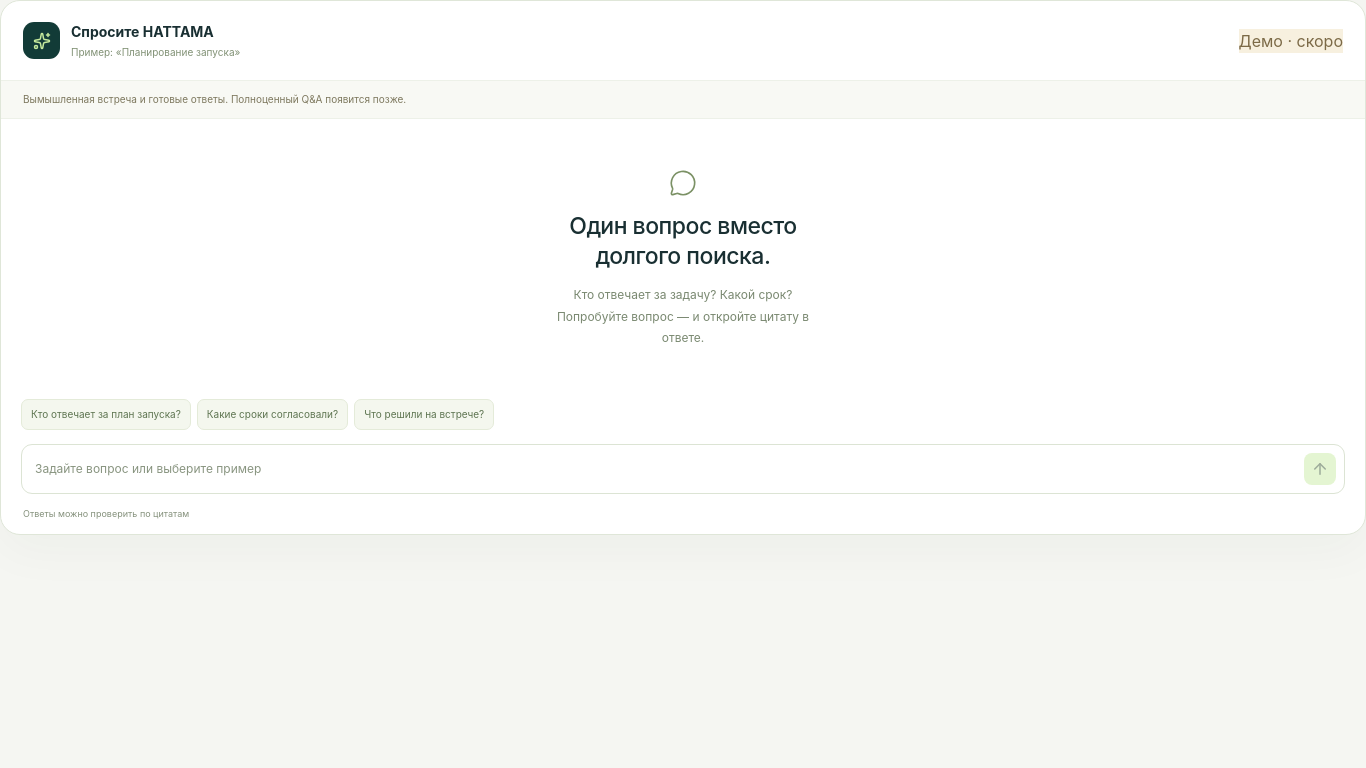
Test: Q&A preview › does not invent an answer to a custom question
The image size is (1366, 768).
Type "Сколько денег у нашей компании?" into the field named "Вопрос ассистенту".
click(663, 469); type("Сколько денег у нашей компании?")  # box [30, 455, 1296, 483]
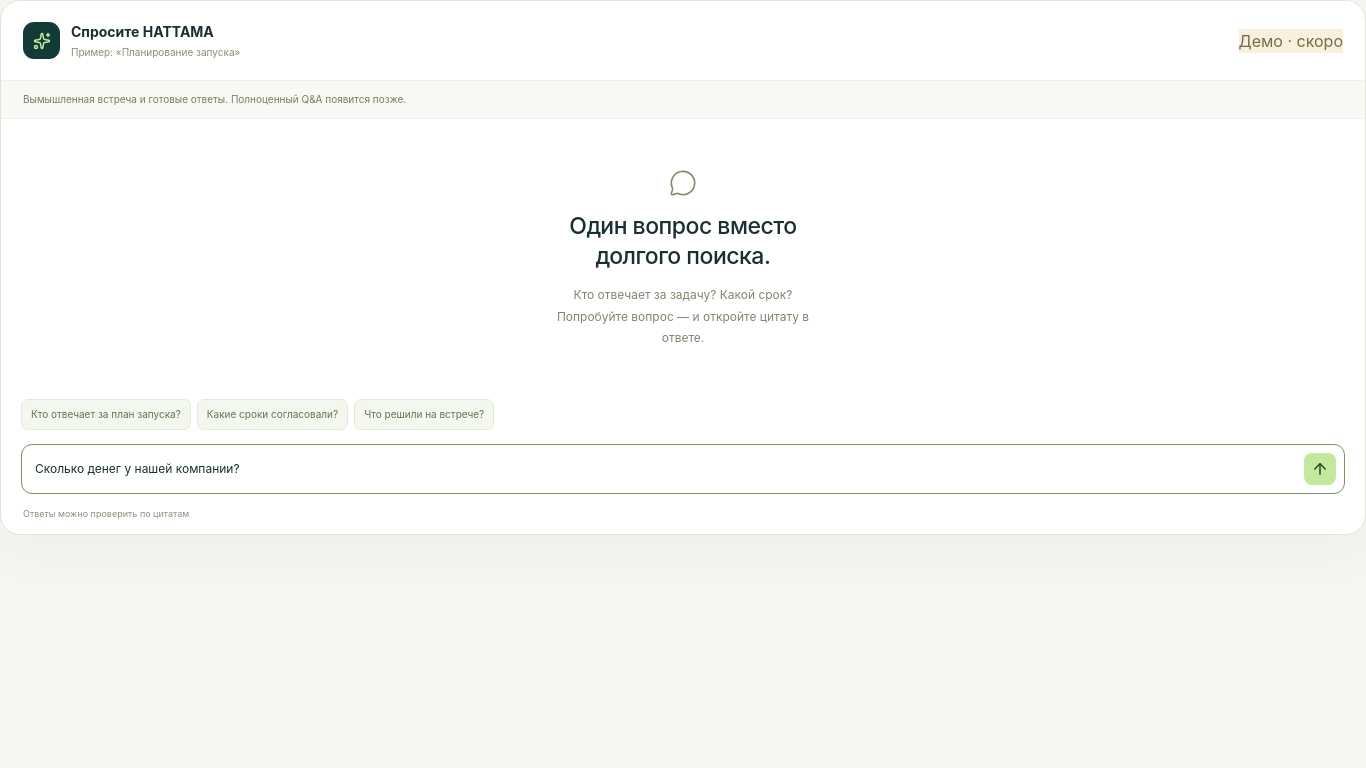
Click the button named "Отправить вопрос".
click(1320, 469)  # box [1304, 453, 1336, 485]
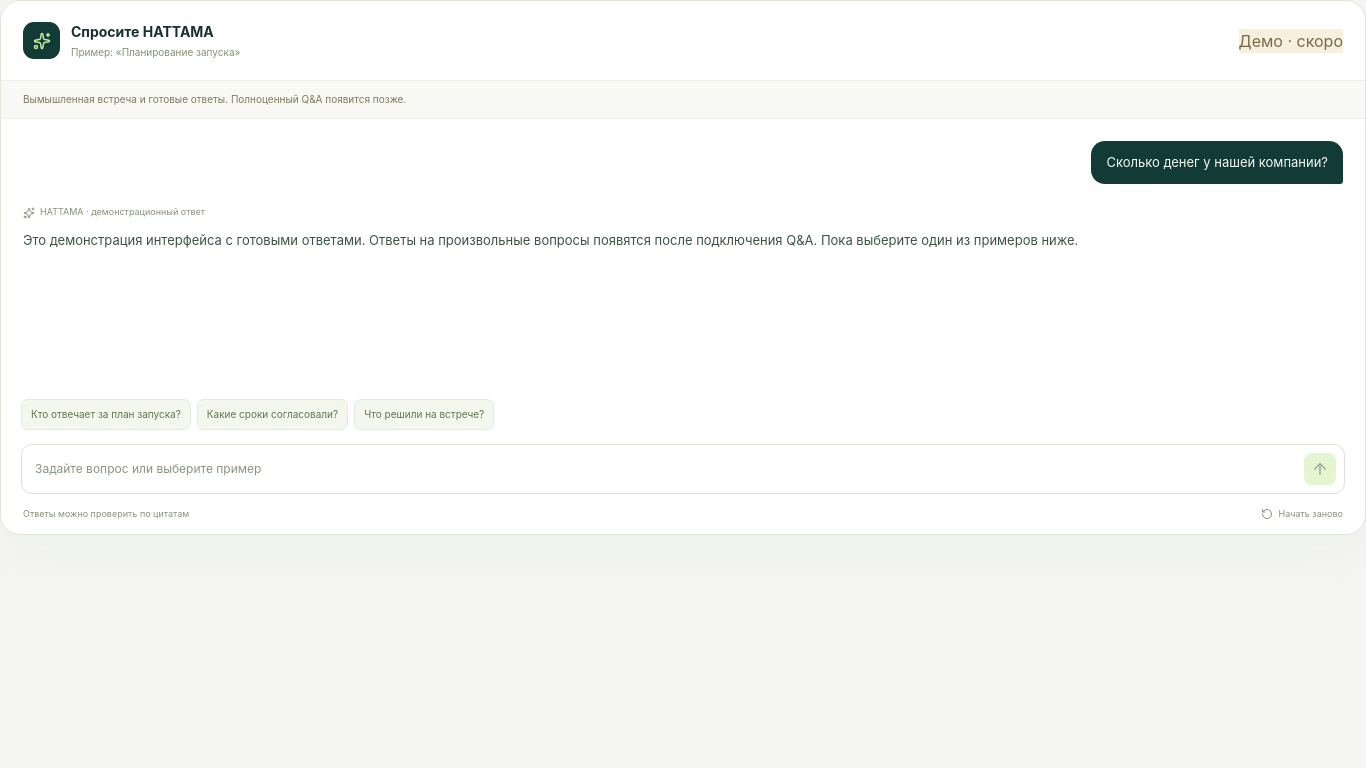
Check: the text "Ответы на произвольные вопросы появятся" is shown, box [23, 232, 1078, 248]
